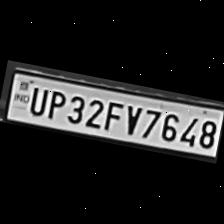2: (82, 94, 106, 129)
3: (62, 90, 86, 125)
4: (176, 111, 200, 146)
6: (156, 108, 181, 144)
7: (137, 104, 160, 140)
8: (194, 117, 218, 150)
F: (101, 97, 125, 132)
P: (42, 86, 66, 122)
U: (25, 83, 48, 116)
V: (119, 102, 144, 136)
